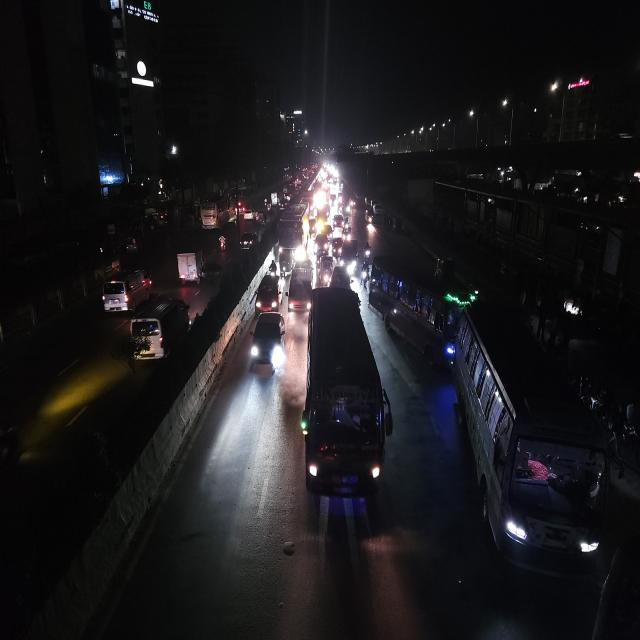bus: (458, 294, 608, 590), (301, 284, 389, 511), (368, 251, 477, 370), (276, 202, 310, 262), (198, 195, 232, 230)
car: (147, 294, 191, 355), (249, 308, 285, 377), (102, 266, 154, 313), (287, 264, 312, 315), (253, 273, 282, 312), (238, 229, 258, 252), (314, 233, 329, 256), (332, 213, 346, 232), (242, 207, 259, 222), (255, 212, 269, 226)
cng: (174, 245, 206, 287), (318, 252, 334, 289), (434, 254, 455, 282), (363, 209, 376, 223)
motorcycle: (217, 228, 229, 254), (362, 257, 371, 287), (268, 257, 280, 278), (362, 242, 372, 265)
truck: (174, 244, 206, 286)
